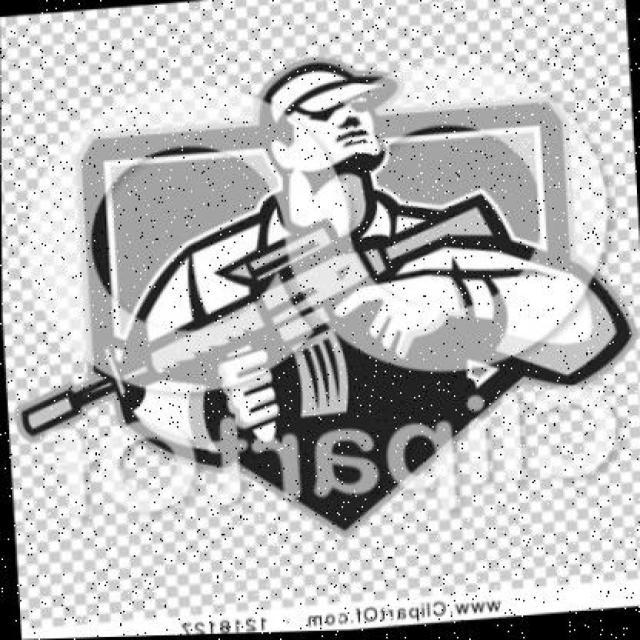weapon: (21, 195, 512, 436)
